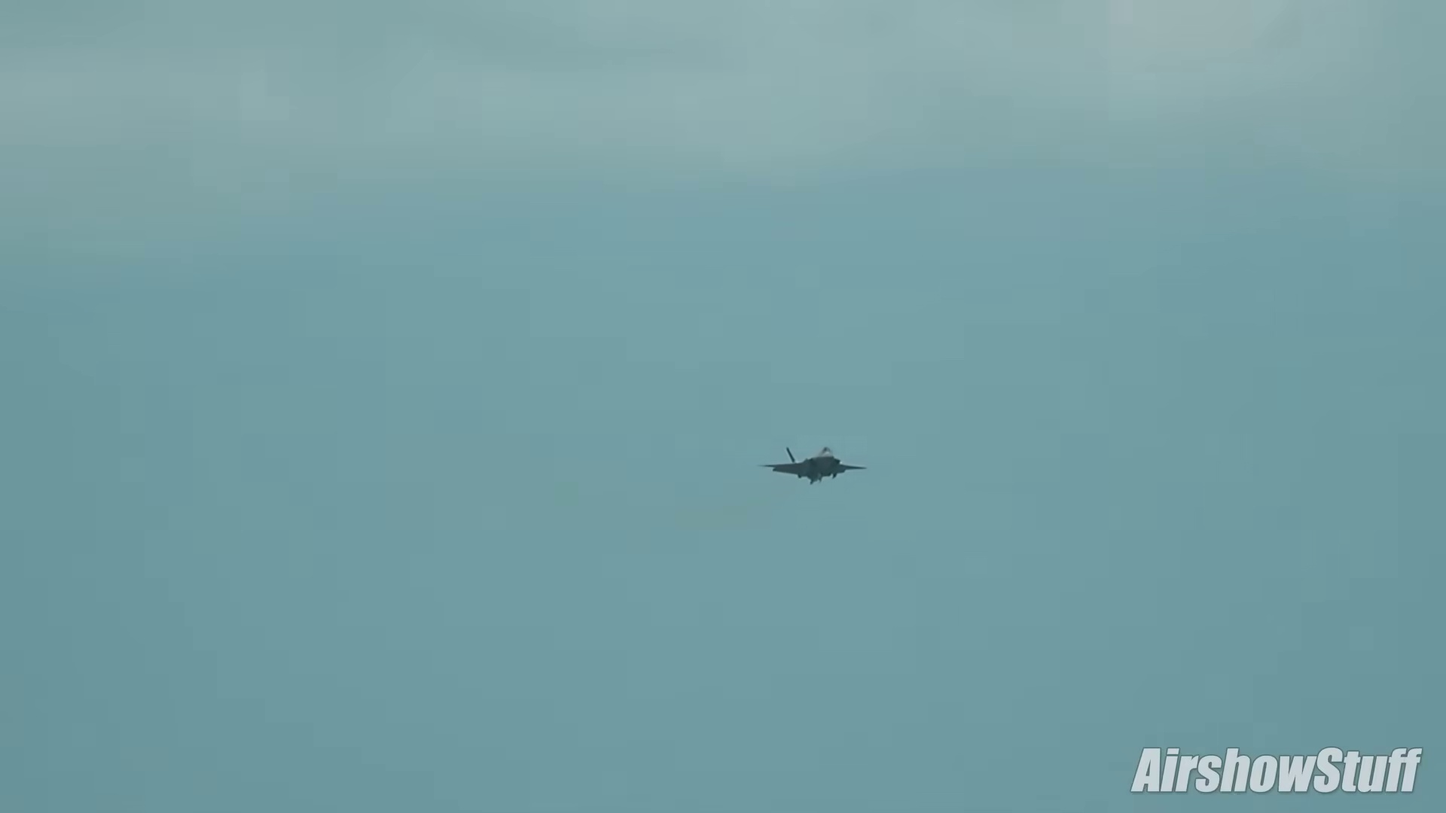F35: (757, 433, 871, 494)
